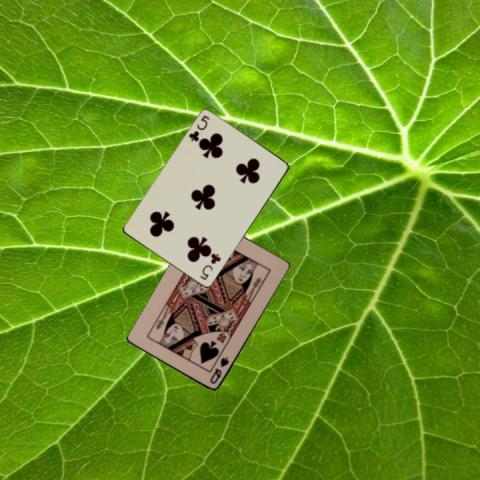5c: (197, 251, 222, 282), (186, 113, 211, 143)
Qs: (206, 355, 230, 385)
